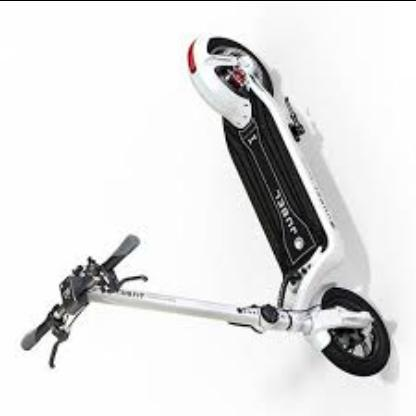bike: (20, 34, 392, 381), (20, 234, 146, 370)
